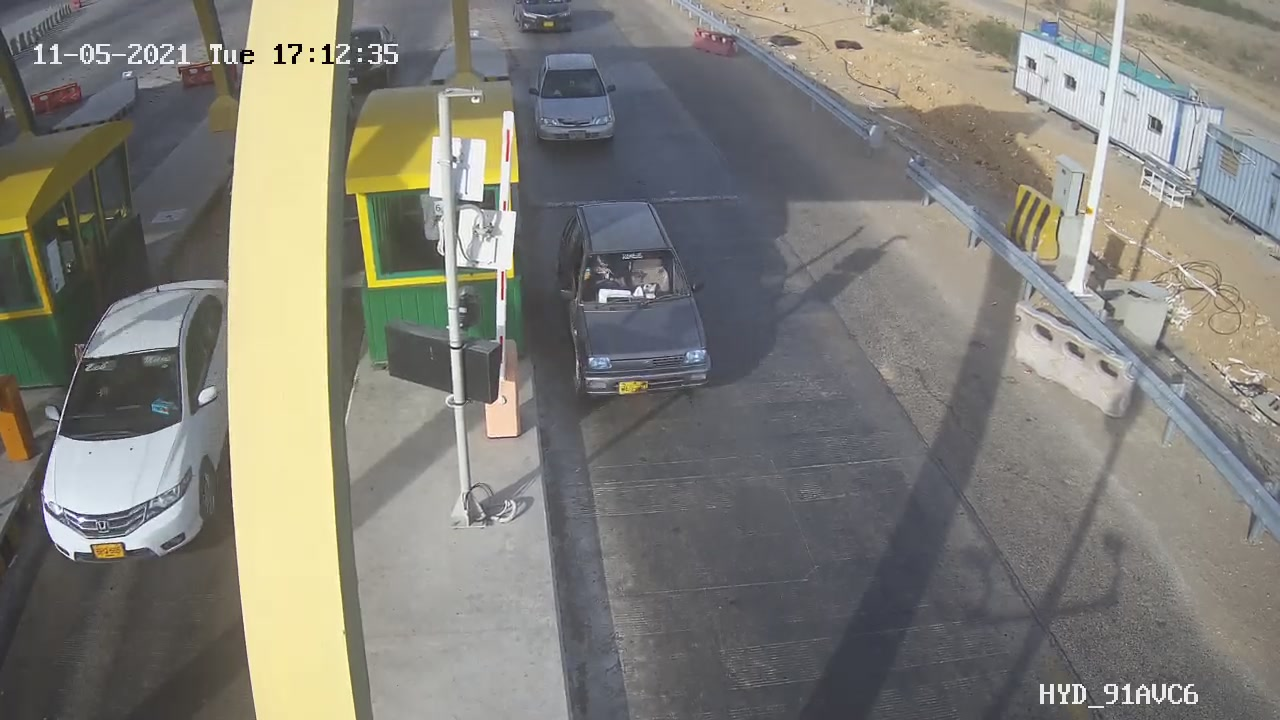F1: (535, 187, 735, 420), (520, 40, 634, 159)
